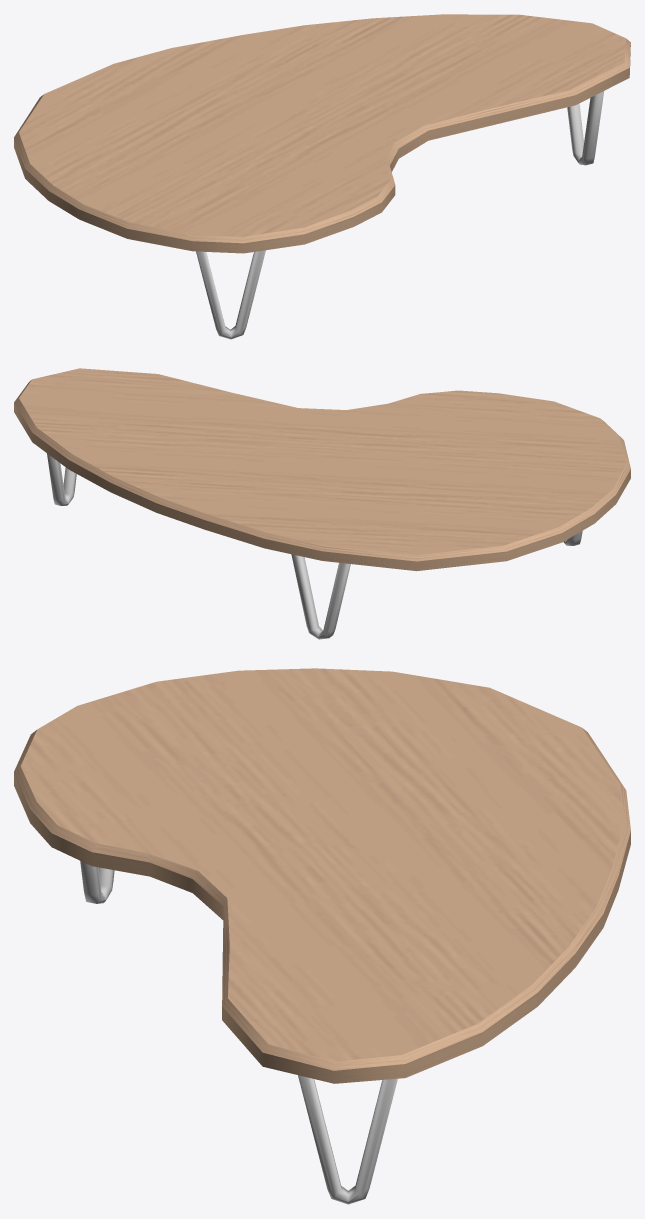
File: Kidney_Table_04.FBX
3 renders of one model, top to bottom at view 1: azimuth 30°, elevation 25°; view 2: azimuth 150°, elevation 25°; view 3: azimuth 270°, elevation 25°, orthographic. The views are drawn at different scales.
Visible parts, largest first — view 1: Kidney_Bean_Table; view 2: Kidney_Bean_Table; view 3: Kidney_Bean_Table.
Boxes of the visible parts, <box> form: Kidney_Bean_Table: <box>14,14,630,339</box>; Kidney_Bean_Table: <box>14,368,630,639</box>; Kidney_Bean_Table: <box>14,668,630,1204</box>.
Size of the model in its own units: 396 by 76.96 by 259.
